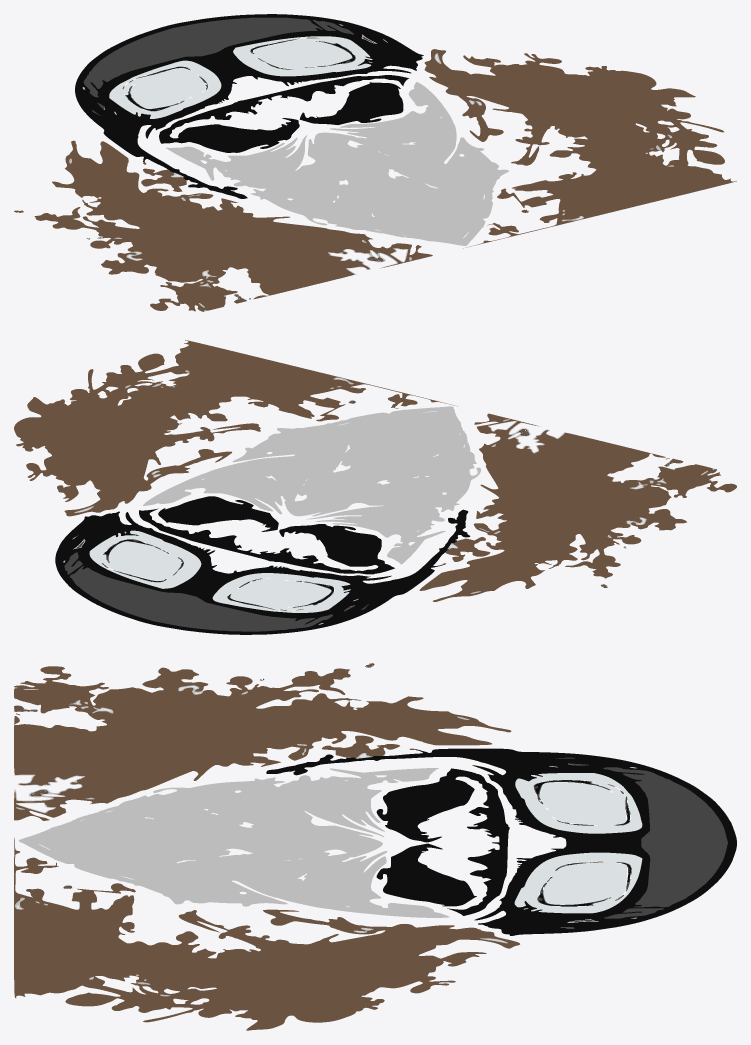
The model's file is fango.gltf.
The picture shows the model from 3 angles, top to bottom: view 1: azimuth 30°, elevation 25°; view 2: azimuth 150°, elevation 25°; view 3: azimuth 270°, elevation 25°; orthographic projection. The views are drawn at different scales.
Visible parts, largest first — view 1: Curve.004; view 2: Curve.004; view 3: Curve.004.
Boxes of the visible parts, x1,y1,x2,y2 form: Curve.004: (14, 14, 736, 311); Curve.004: (14, 340, 736, 634); Curve.004: (14, 663, 736, 1030).
Bounding box in the file's own units: 13.43 × 0 × 11.17.
